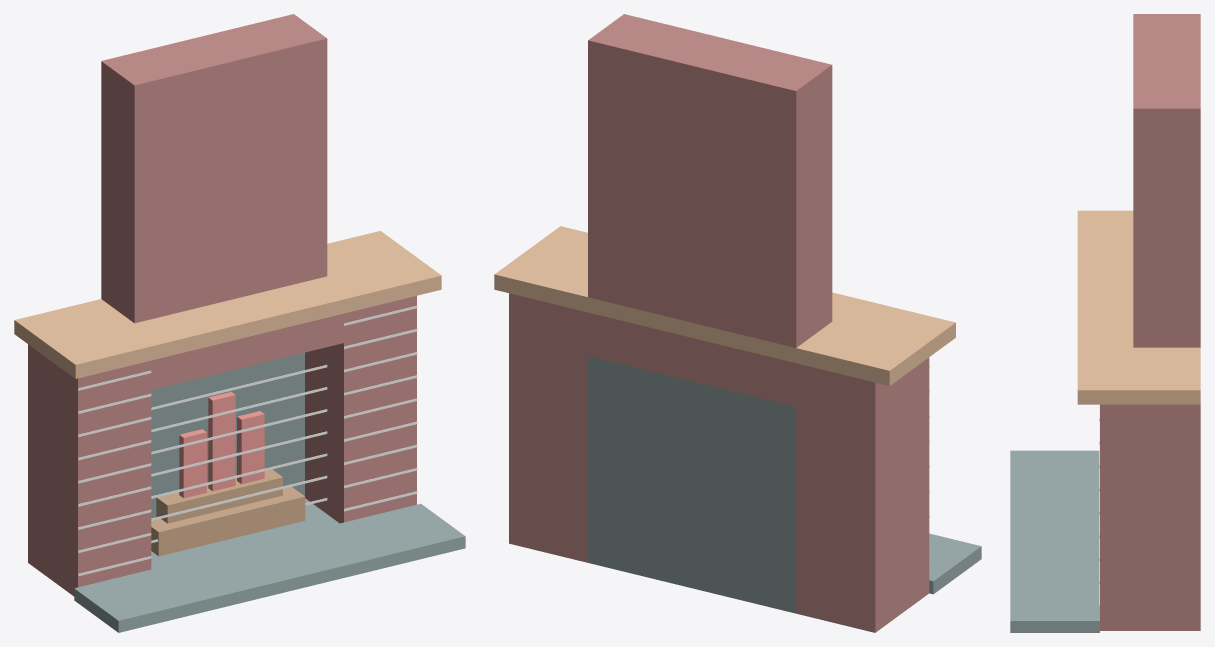
The model's file is fireplaceBrick.glb.
The picture shows the model from 3 angles, left to right: view 1: azimuth 30°, elevation 25°; view 2: azimuth 150°, elevation 25°; view 3: azimuth 270°, elevation 25°; orthographic projection. The views are drawn at different scales.
Visible parts, largest first — view 1: fireplaceBrick; view 2: fireplaceBrick; view 3: fireplaceBrick.
Boxes of the visible parts, bbox=[...] form: fireplaceBrick: bbox=[14, 14, 465, 632]; fireplaceBrick: bbox=[494, 14, 981, 632]; fireplaceBrick: bbox=[1010, 14, 1200, 632].
Bounding box in the file's own units: 0.95 × 1.2 × 0.425.
